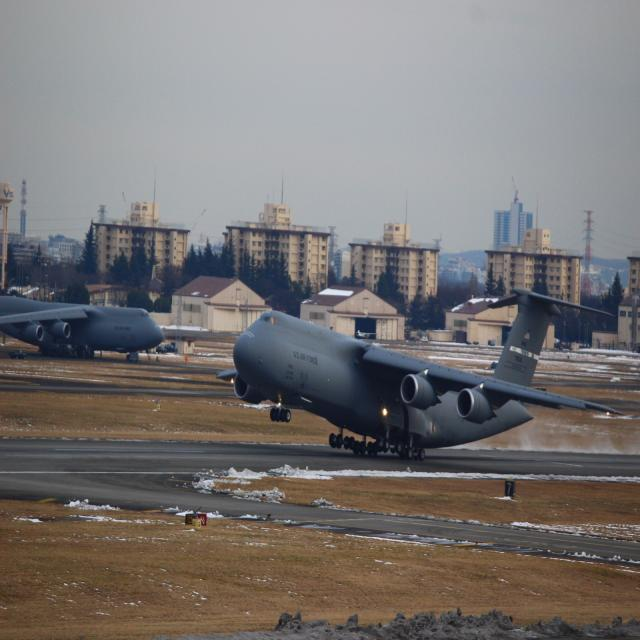MIL_Plane: (215, 241, 626, 417), (0, 295, 160, 362)
